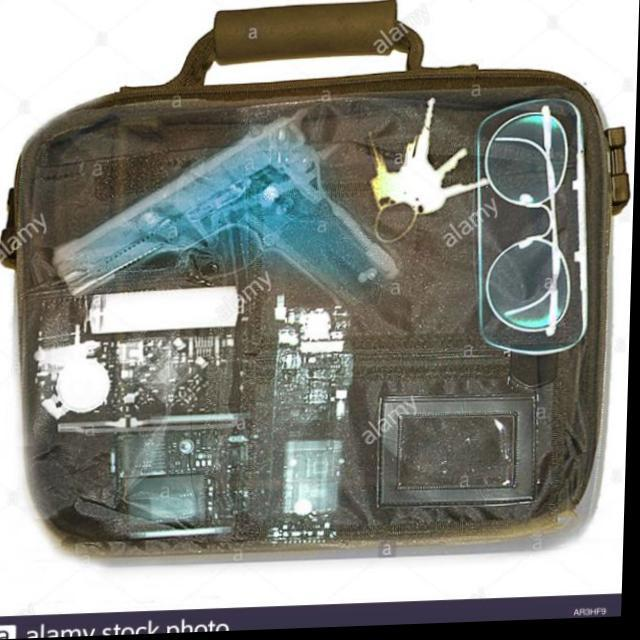weapon: (364, 98, 493, 248)
